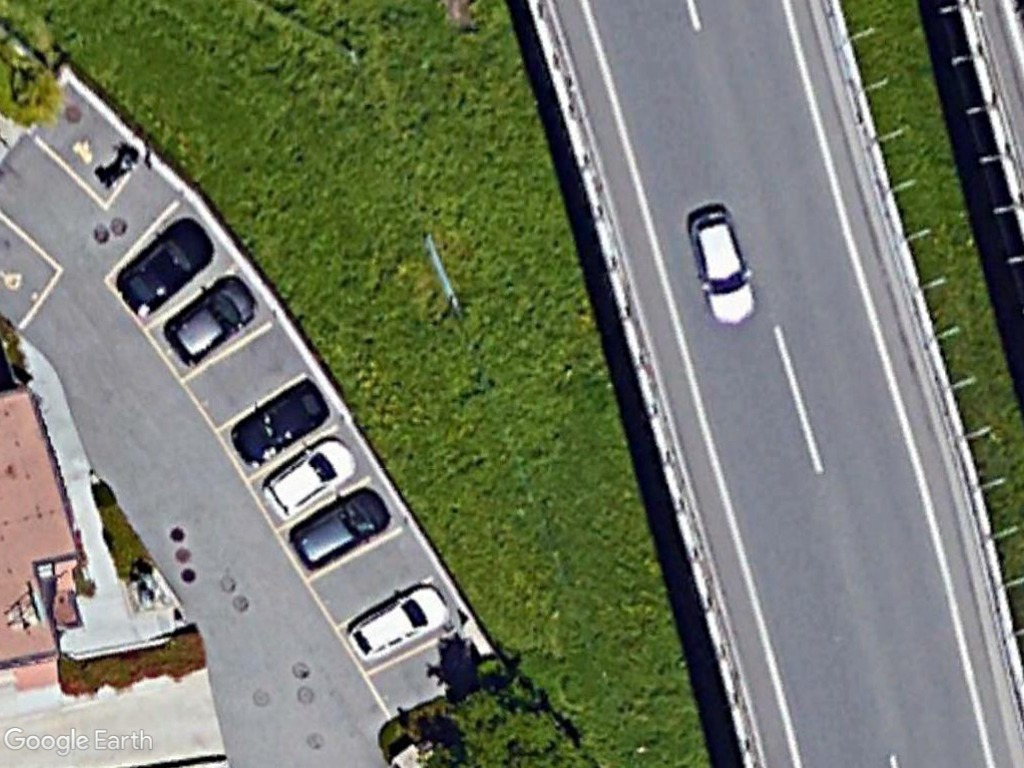car: (344, 570, 454, 666), (114, 214, 215, 316), (167, 268, 263, 368), (685, 201, 759, 328), (261, 436, 360, 529), (290, 483, 391, 572)
